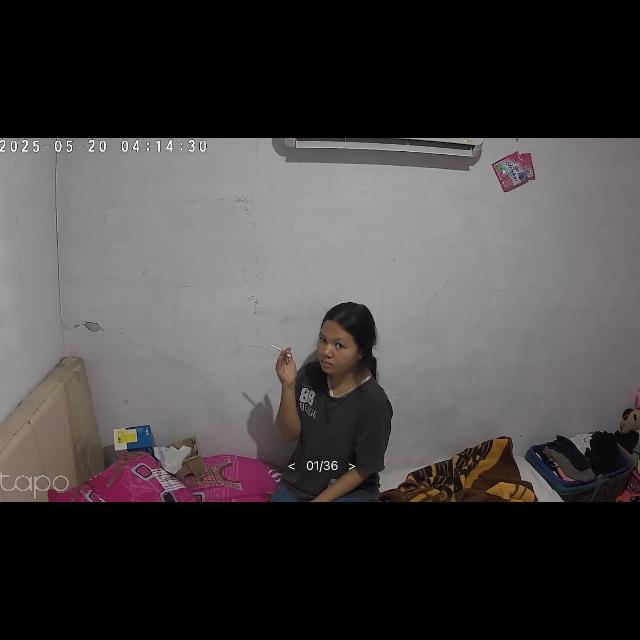rokok: (265, 344, 291, 361)
